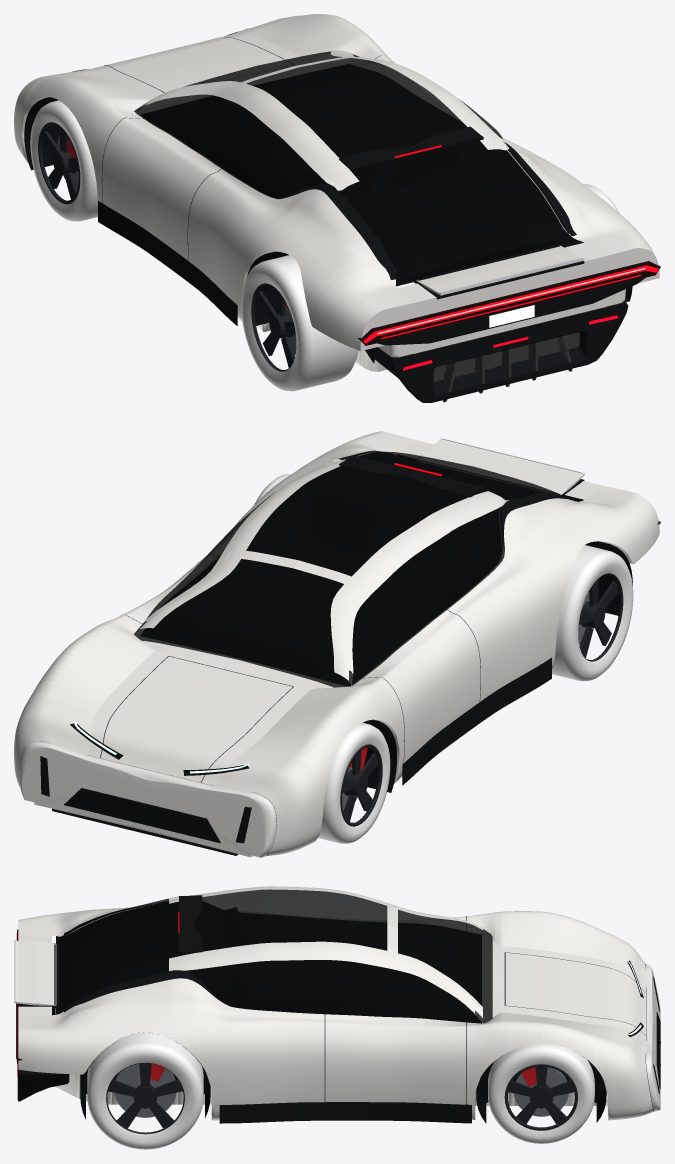
File: xwave_roadster_v4_4_step07.glb
3 renders of one model, top to bottom at view 1: azimuth 30°, elevation 25°; view 2: azimuth 150°, elevation 25°; view 3: azimuth 270°, elevation 25°, orthographic. The views are drawn at different scales.
Parts seen in each view (by area): view 1: Body_Paint, Glass_Canopy, Trim_Interior, Rear_LowerBumper, Trim_GlossBlack, Tyre_RL, Tyre_FL, Trim_LEDHousing, Trim_SatinBlack, Spoiler, Diffuser, Rear_LED (+4 smaller); view 2: Body_Paint, Glass_Canopy, Trim_Interior, Tyre_RL, Spoiler, Tyre_FL, Trim_SatinBlack, Trim_GlossBlack, Trim_WheelLiner, Front_Intake, Rim_FL, Rim_RL (+3 smaller); view 3: Body_Paint, Glass_Canopy, Trim_Interior, Tyre_RR, Tyre_FR, Trim_SatinBlack, Trim_GlossBlack, Spoiler, Rim_FR, Rim_RR, Wheel_Liners, Disc_RR (+4 smaller).
Boxes of the visible parts, bbox=[...] form: Body_Paint: bbox=[14, 14, 659, 371]; Glass_Canopy: bbox=[134, 51, 572, 282]; Trim_Interior: bbox=[141, 64, 580, 286]; Rear_LowerBumper: bbox=[366, 301, 628, 402]; Trim_GlossBlack: bbox=[282, 126, 646, 345]; Tyre_RL: bbox=[241, 255, 358, 391]; Tyre_FL: bbox=[30, 100, 97, 221]; Trim_LEDHousing: bbox=[358, 261, 660, 345]; Trim_SatinBlack: bbox=[98, 201, 237, 325]; Spoiler: bbox=[416, 245, 584, 295]; Diffuser: bbox=[433, 332, 579, 402]; Rear_LED: bbox=[363, 265, 658, 343]; Body_Paint: bbox=[14, 431, 659, 857]; Glass_Canopy: bbox=[134, 450, 564, 687]; Trim_Interior: bbox=[141, 452, 580, 685]; Tyre_RL: bbox=[552, 545, 633, 681]; Spoiler: bbox=[417, 438, 584, 494]; Tyre_FL: bbox=[318, 722, 390, 843]; Trim_SatinBlack: bbox=[402, 657, 551, 785]; Trim_GlossBlack: bbox=[339, 452, 584, 543]; Trim_WheelLiner: bbox=[68, 791, 216, 840]; Front_Intake: bbox=[40, 756, 251, 843]; Rim_FL: bbox=[340, 744, 382, 826]; Rim_RL: bbox=[578, 573, 623, 661]; Body_Paint: bbox=[18, 886, 660, 1120]; Glass_Canopy: bbox=[59, 889, 492, 1023]; Trim_Interior: bbox=[56, 900, 481, 1023]; Tyre_RR: bbox=[87, 1032, 203, 1149]; Tyre_FR: bbox=[488, 1044, 594, 1143]; Trim_SatinBlack: bbox=[219, 1102, 471, 1123]; Trim_GlossBlack: bbox=[16, 895, 223, 1058]; Spoiler: bbox=[14, 940, 56, 1005]; Rim_FR: bbox=[504, 1064, 577, 1130]; Rim_RR: bbox=[106, 1063, 184, 1134]; Wheel_Liners: bbox=[80, 1032, 606, 1123]; Disc_RR: bbox=[114, 1063, 176, 1117].
Bounding box in the file's own units: 2.13 × 1.18 × 4.11.
